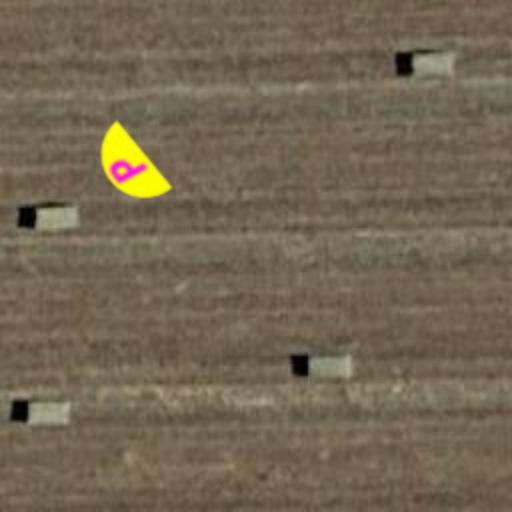semicircle: (66, 106, 190, 230)
